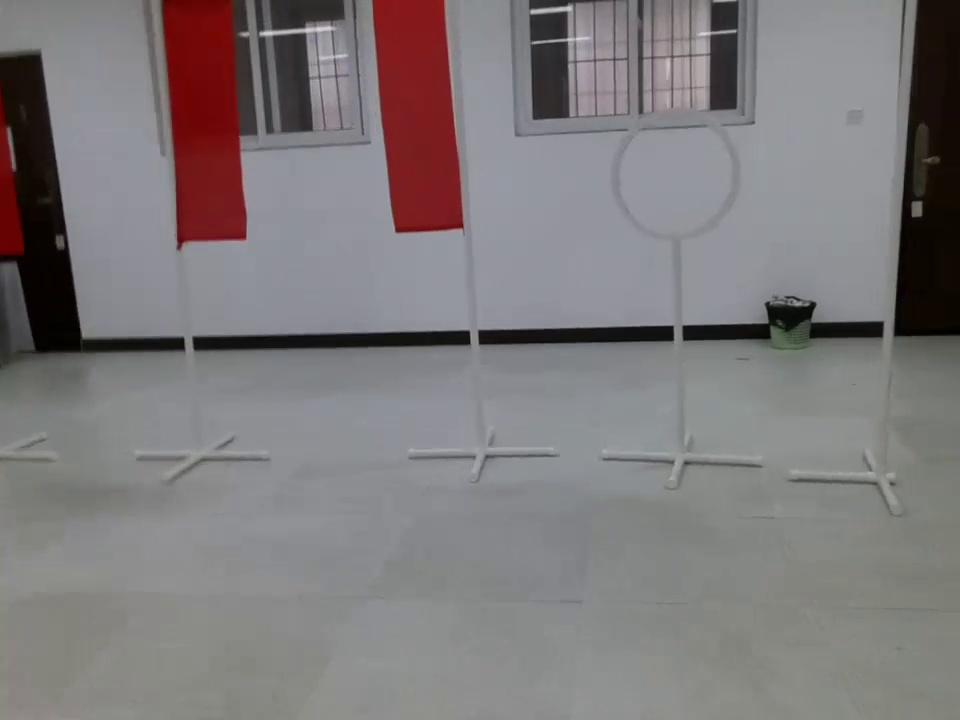gan: (867, 2, 922, 472)
qi: (365, 1, 471, 247), (156, 2, 250, 272)
quan: (615, 99, 752, 266)
